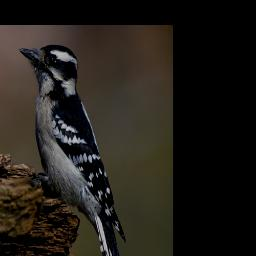Woodpecker: (18, 40, 127, 256)
